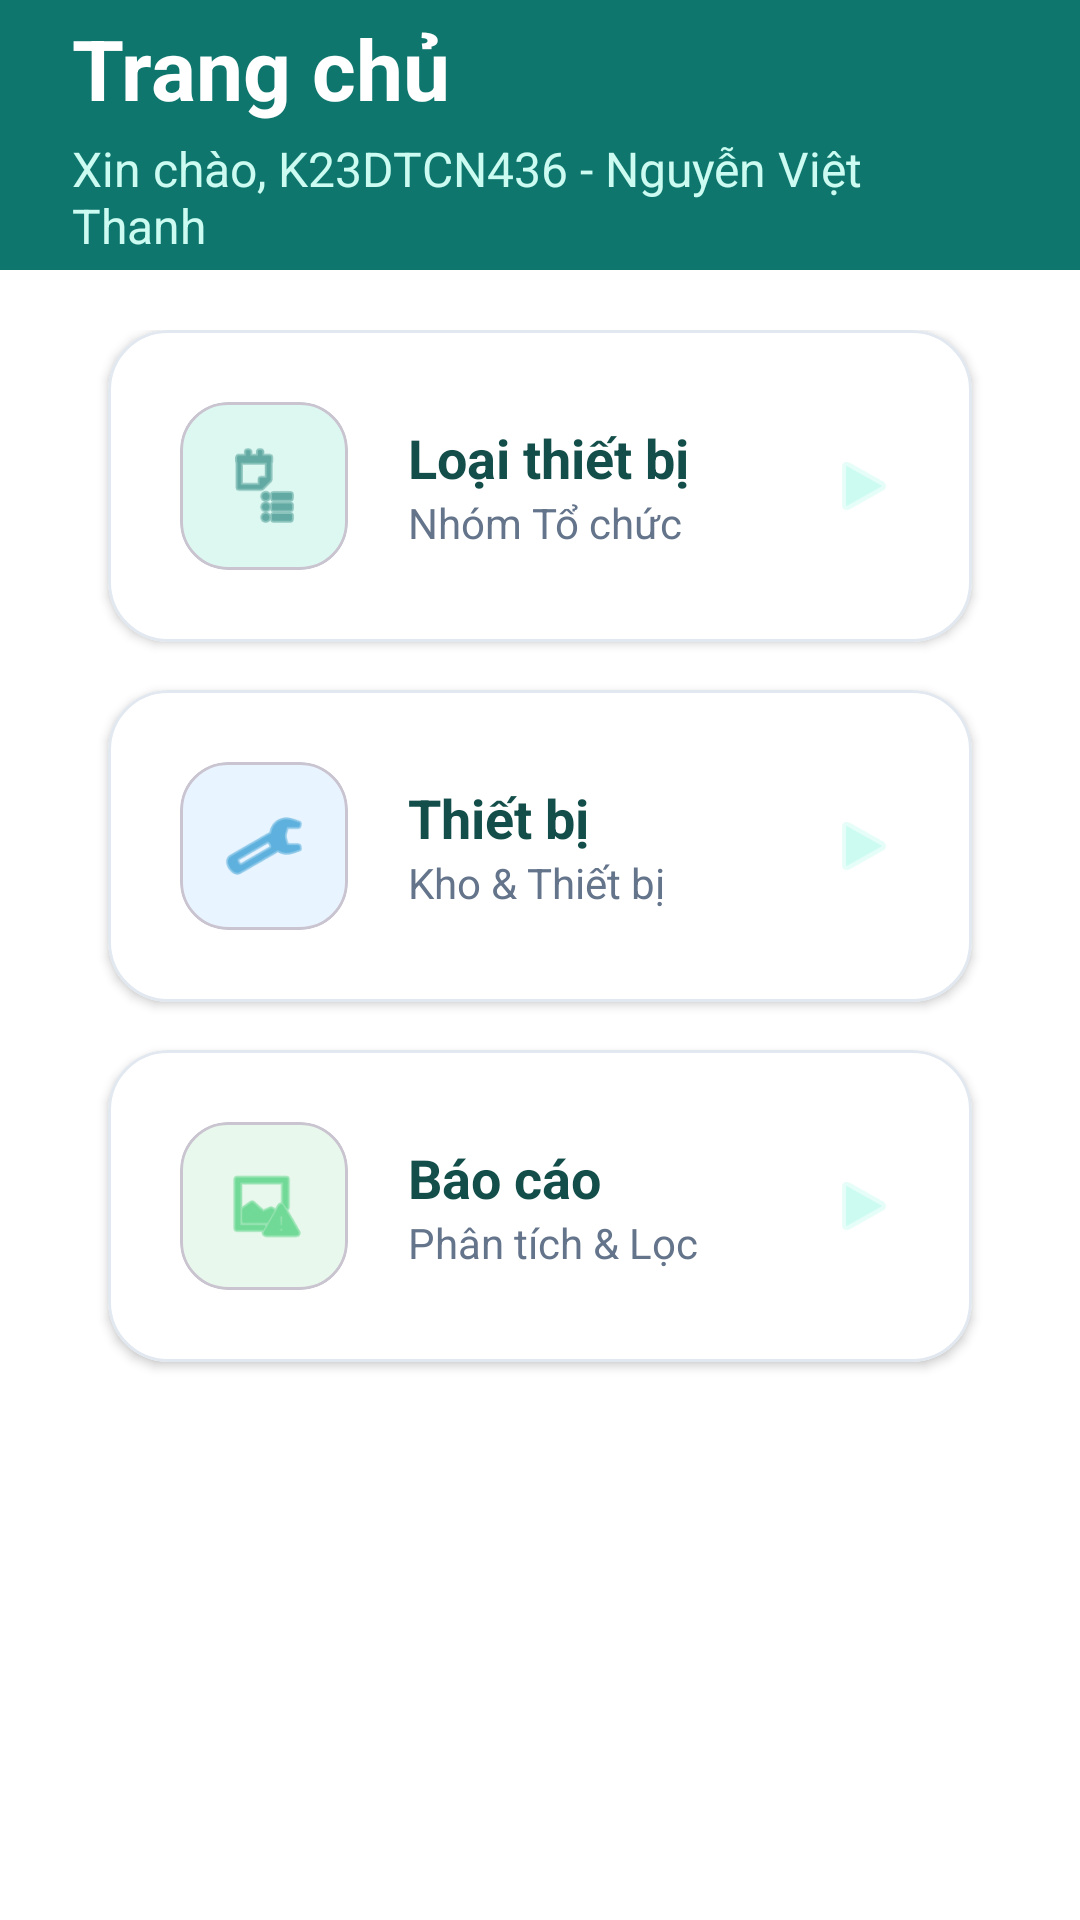

Locate icon controls on the screen. Image size 1080x1920, boxes as [x1=x1, y1=y1, x2=x2, y2=y2].
agenda: [x1=180, y1=402, x2=348, y2=570]
manage: [x1=180, y1=762, x2=348, y2=930]
play: [x1=843, y1=462, x2=885, y2=510], [x1=843, y1=822, x2=885, y2=870], [x1=843, y1=1182, x2=885, y2=1230]
